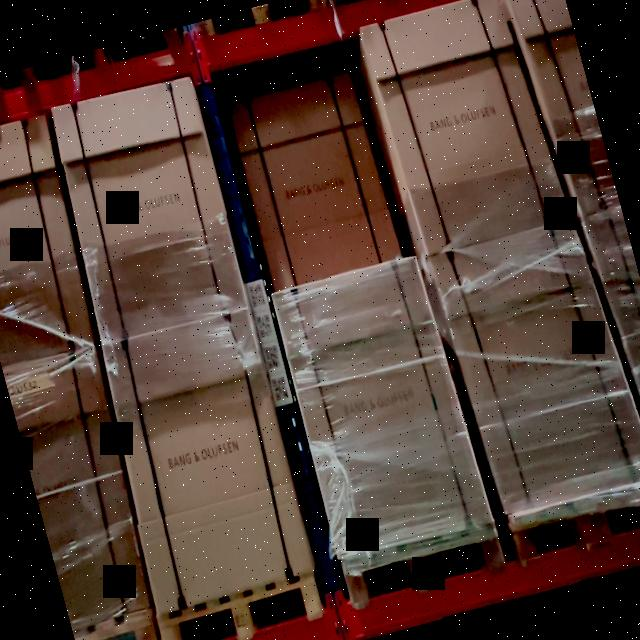box: (272, 256, 490, 560), (436, 219, 640, 516), (104, 320, 303, 598), (54, 75, 245, 339), (364, 0, 553, 249), (230, 70, 402, 294)
